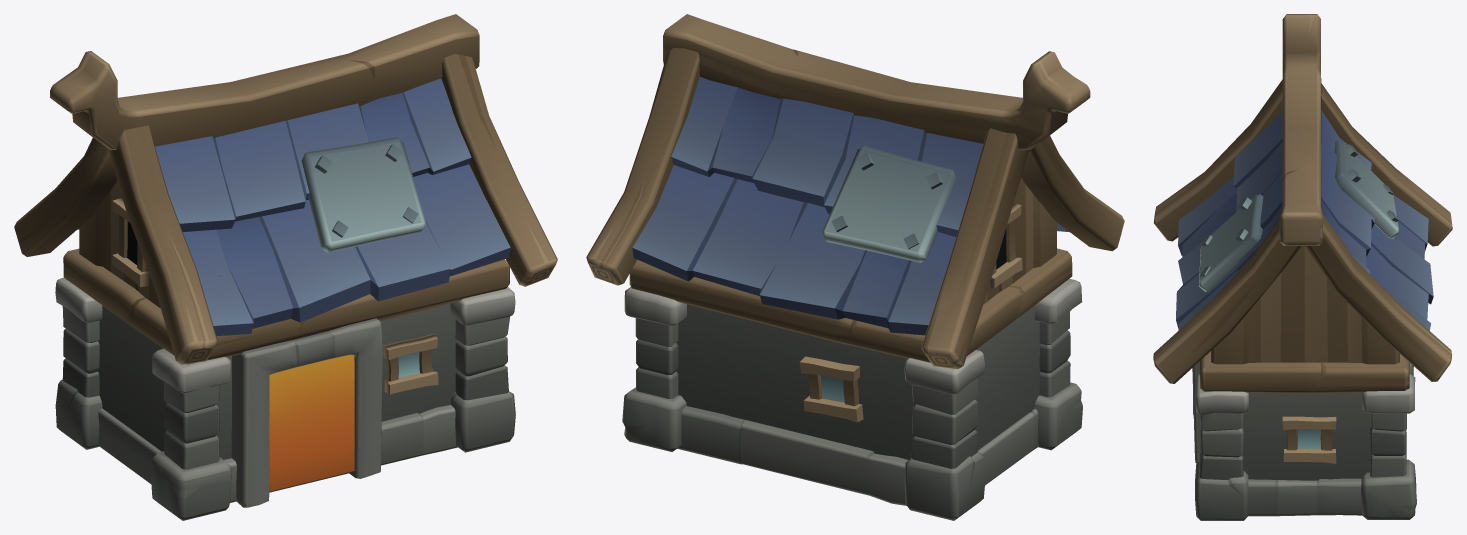
Rendered from smithy_building.fbx.
3 renders of one model, left to right at view 1: azimuth 30°, elevation 25°; view 2: azimuth 150°, elevation 25°; view 3: azimuth 270°, elevation 25°, orthographic. The views are drawn at different scales.
Parts seen in each view (by area): view 1: smithy_building; view 2: smithy_building; view 3: smithy_building.
Boxes of the visible parts, bbox=[...] form: smithy_building: bbox=[14, 14, 557, 520]; smithy_building: bbox=[586, 14, 1124, 520]; smithy_building: bbox=[1153, 14, 1452, 520].
Bounding box in the file's own units: 857 × 844 × 634.
